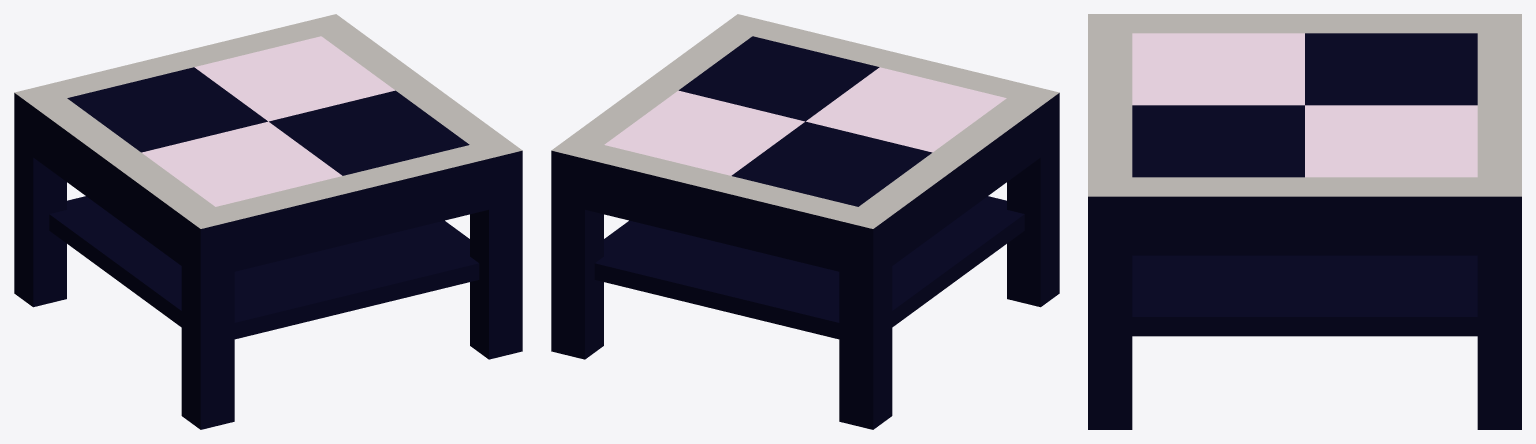
Rendered from Prop_Table_07.fbx.
3 renders of one model, left to right at view 1: azimuth 30°, elevation 25°; view 2: azimuth 150°, elevation 25°; view 3: azimuth 270°, elevation 25°, orthographic. The views are drawn at different scales.
Parts seen in each view (by area): view 1: Prop_Table_07; view 2: Prop_Table_07; view 3: Prop_Table_07.
Boxes of the visible parts, x1=… form: Prop_Table_07: x1=14, y1=14, x2=522, y2=429; Prop_Table_07: x1=551, y1=14, x2=1059, y2=429; Prop_Table_07: x1=1088, y1=14, x2=1521, y2=429.
Size of the model in its own units: 99.66 by 59.39 by 100.
